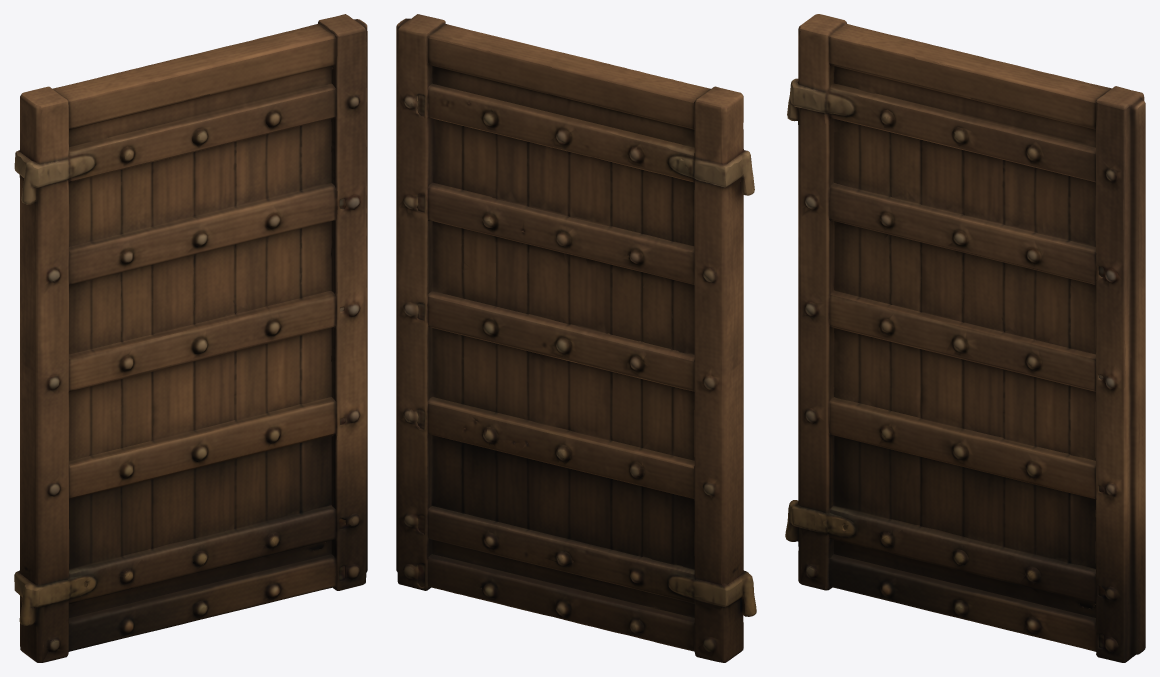
The model's file is ARCH-013.glb.
3 views of the same model, side by side, from view 1: azimuth 30°, elevation 25°; view 2: azimuth 150°, elevation 25°; view 3: azimuth 330°, elevation 25° (orthographic).
Visible parts, largest first — view 1: world; view 2: world; view 3: world.
Part boxes in pixels (box(x1,y1,x2,y2)): world: box(14, 14, 367, 662); world: box(396, 14, 756, 662); world: box(785, 14, 1145, 662).
Bounding box in the file's own units: 2 × 3.05 × 0.2392.
Materials: 1 (1 with a texture image).
